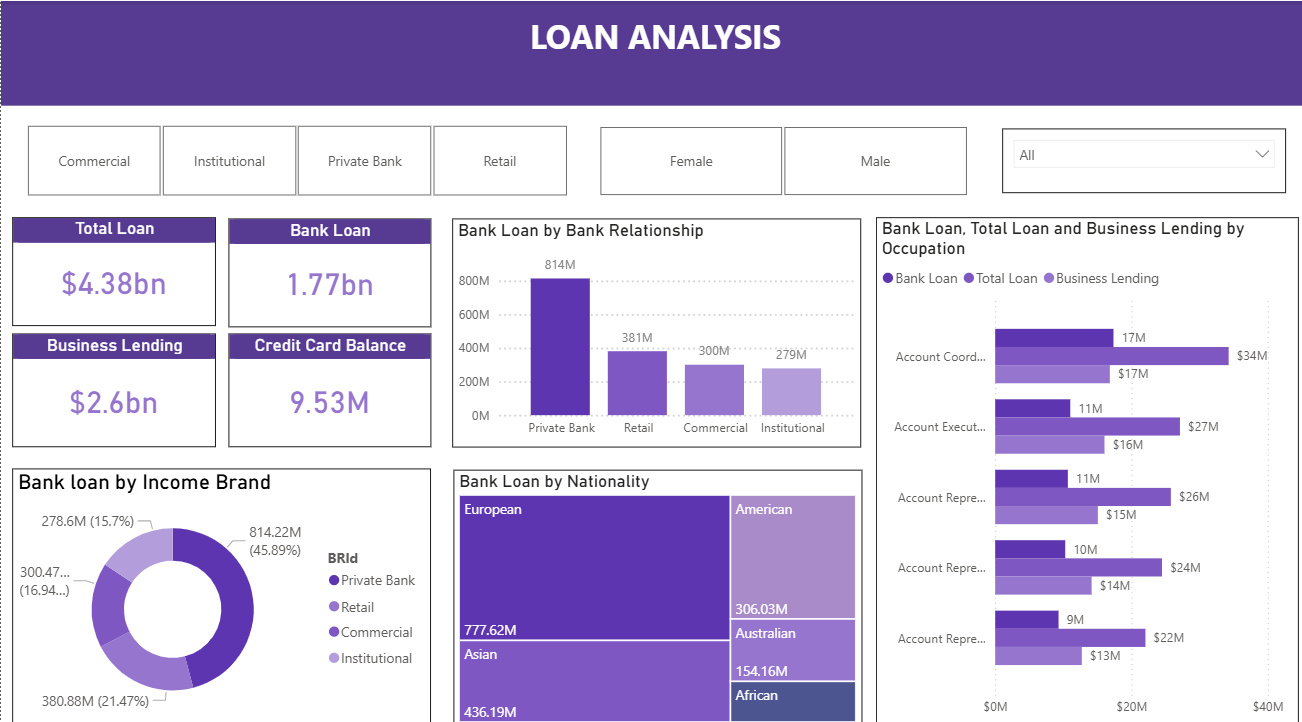

The dashboard page shown, as its layout file describes it:
{"tool":"powerbi","page":{"name":"Loan Analysis","canvas":[1280,720],"ordinal":1},"visuals":[{"type":"textbox","box":[0,0,1280.3,102.7],"z":0},{"type":"slicer","fields":{"Values":["Banking.BRId"]},"box":[0,114.9,577.2,81.9],"z":1000},{"type":"slicer","fields":{"Values":["Banking.GenderId"]},"box":[560.1,116.2,408.4,80.7],"z":2000},{"type":"card","title":"Total Loan","fields":{"Values":["All measures.Total Loan"]},"box":[11,211.6,199.3,106.4],"z":3000},{"type":"card","title":"Credit Card Balance","fields":{"Values":["All measures.Credit Card Balance"]},"box":[222.6,325.3,198.1,111.3],"z":4000},{"type":"card","title":"Business Lending","fields":{"Values":["All measures.Business Lending"]},"box":[11,325.3,199.3,111.3],"z":5000},{"type":"card","title":"Bank Loan","fields":{"Values":["All measures.Bank Loan"]},"box":[222.6,212.8,198.1,106.4],"z":6000},{"type":"donutChart","title":"Bank loan by Income Brand","fields":{"Category":["Banking.BRId"],"Y":["All measures.Bank Loan"]},"box":[11,457.3,409.6,253.1],"z":7000},{"type":"columnChart","title":"Bank Loan by Bank Relationship","fields":{"Y":["All measures.Bank Loan"],"Category":["Banking.BRId"]},"box":[441.4,212.8,399.9,223.8],"z":8000},{"type":"treemap","title":"Bank Loan by Nationality","fields":{"Group":["Banking.Nationality"],"Values":["All measures.Bank Loan"]},"box":[442.7,458.6,399.9,253.1],"z":9000},{"type":"clusteredBarChart","fields":{"Category":["Banking.Occupation"],"Y":["All measures.Bank Loan","All measures.Total Loan","All measures.Business Lending"]},"box":[856,211.6,413.3,497.7],"z":10000},{"type":"slicer","fields":{"Values":["Banking.IAId"]},"box":[979.5,124.7,277.6,63.6],"z":11000}]}

Visuals, with their boxes in screenshot pixels (x1, y1, x2, y2), scaled from the page's 1280x720 canvas onto the 1302x722 screenshot:
textbox: BBox(0, 0, 1301, 103)
slicer - Banking.BRId: BBox(0, 115, 587, 197)
slicer - Banking.GenderId: BBox(570, 117, 985, 197)
"Total Loan" card: BBox(11, 212, 214, 319)
"Credit Card Balance" card: BBox(226, 326, 428, 438)
"Business Lending" card: BBox(11, 326, 214, 438)
"Bank Loan" card: BBox(226, 213, 428, 320)
"Bank loan by Income Brand" donutChart: BBox(11, 459, 428, 712)
"Bank Loan by Bank Relationship" columnChart: BBox(449, 213, 856, 438)
"Bank Loan by Nationality" treemap: BBox(450, 460, 857, 714)
clusteredBarChart - Banking.Occupation x All measures.Bank Loan: BBox(871, 212, 1291, 711)
slicer - Banking.IAId: BBox(996, 125, 1279, 189)
